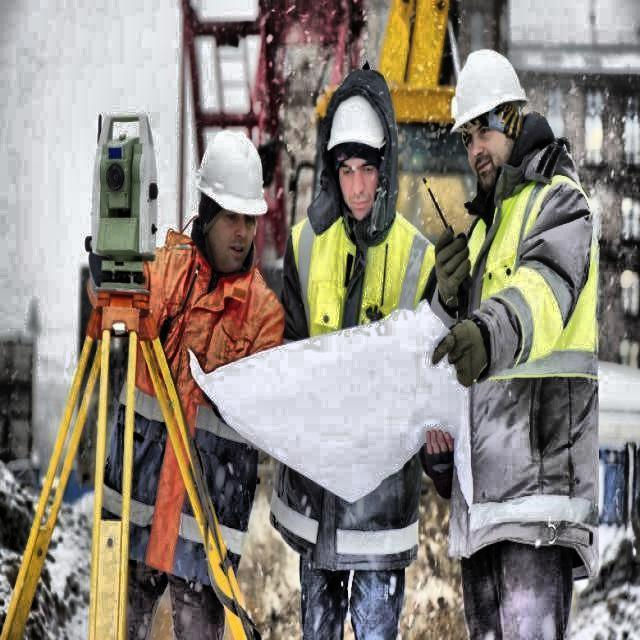safety_helmet: (433, 41, 540, 145), (187, 121, 284, 226), (320, 87, 398, 164)
safety_jacket: (78, 226, 293, 604), (436, 174, 622, 370), (280, 206, 442, 352)
